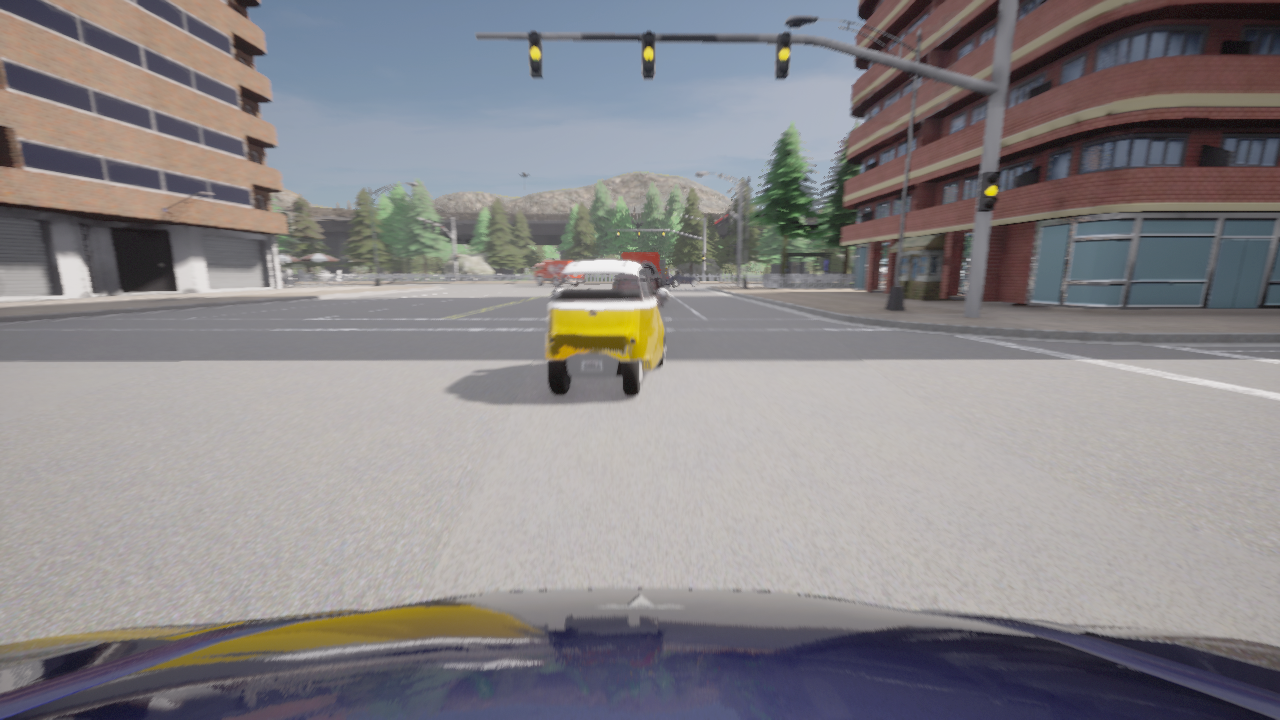cyclist: (0, 588, 1279, 719), (545, 259, 669, 396), (532, 260, 578, 286), (640, 263, 663, 305), (622, 252, 659, 275), (660, 268, 697, 287), (280, 271, 298, 284)
